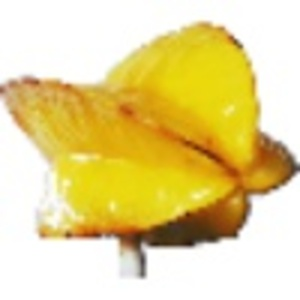carambola: (1, 20, 300, 276)
